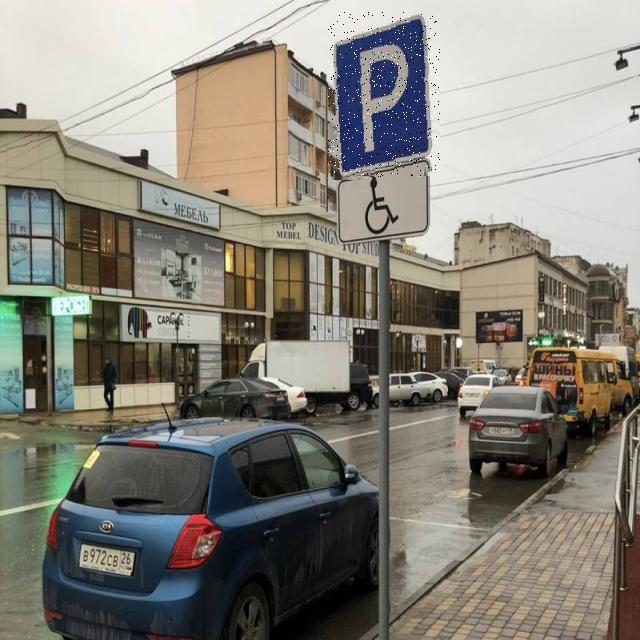parking: (328, 13, 440, 178)
